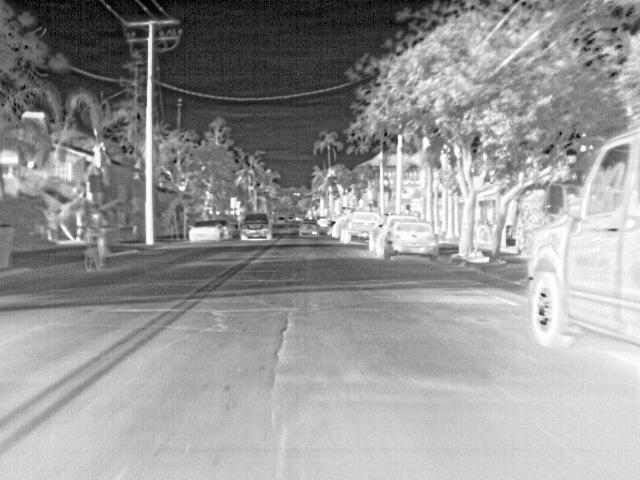car: (528, 128, 639, 352), (382, 220, 439, 262), (339, 211, 373, 243), (367, 214, 397, 249), (239, 213, 273, 240), (188, 220, 226, 243), (329, 215, 345, 237), (299, 218, 317, 236), (221, 219, 236, 239), (316, 215, 332, 227), (275, 216, 286, 223)
person: (84, 205, 108, 259)
